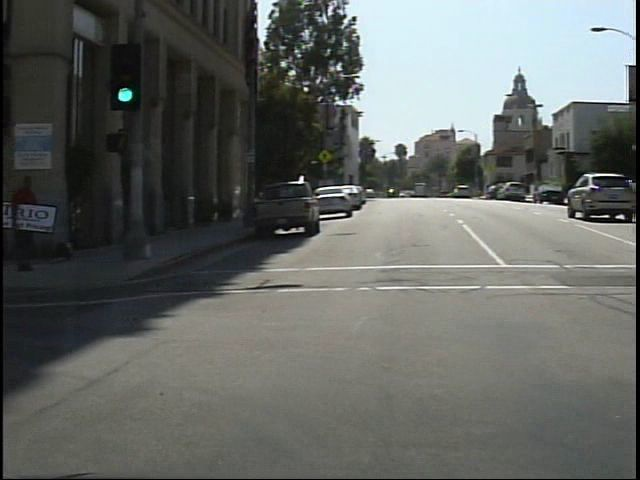person: (9, 162, 50, 281)
